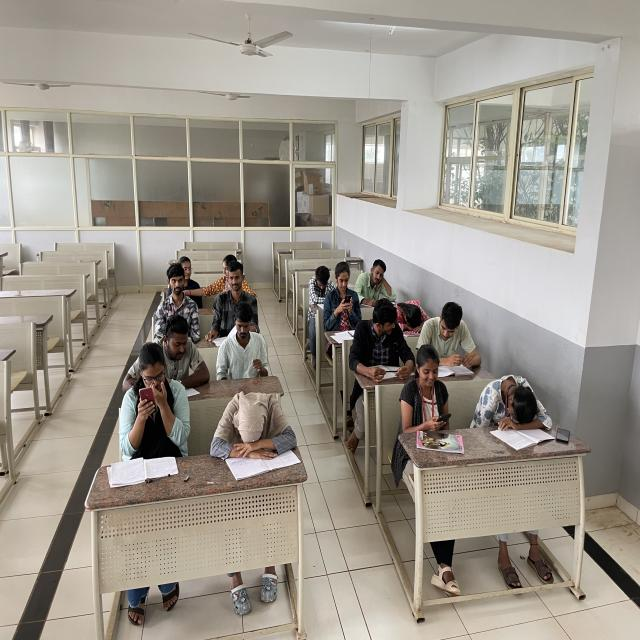Reading: (419, 299, 483, 374)
Sleeping: (210, 386, 300, 460), (474, 369, 554, 429), (388, 297, 434, 338)
Using Phone: (113, 338, 190, 456), (398, 346, 457, 432), (326, 259, 367, 323)
Writing: (358, 259, 400, 309)
